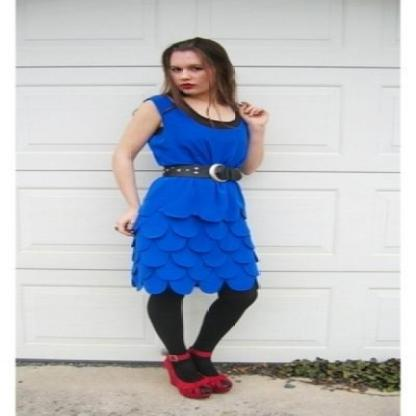dress: (131, 92, 258, 296)
shoe: (163, 346, 231, 400)
